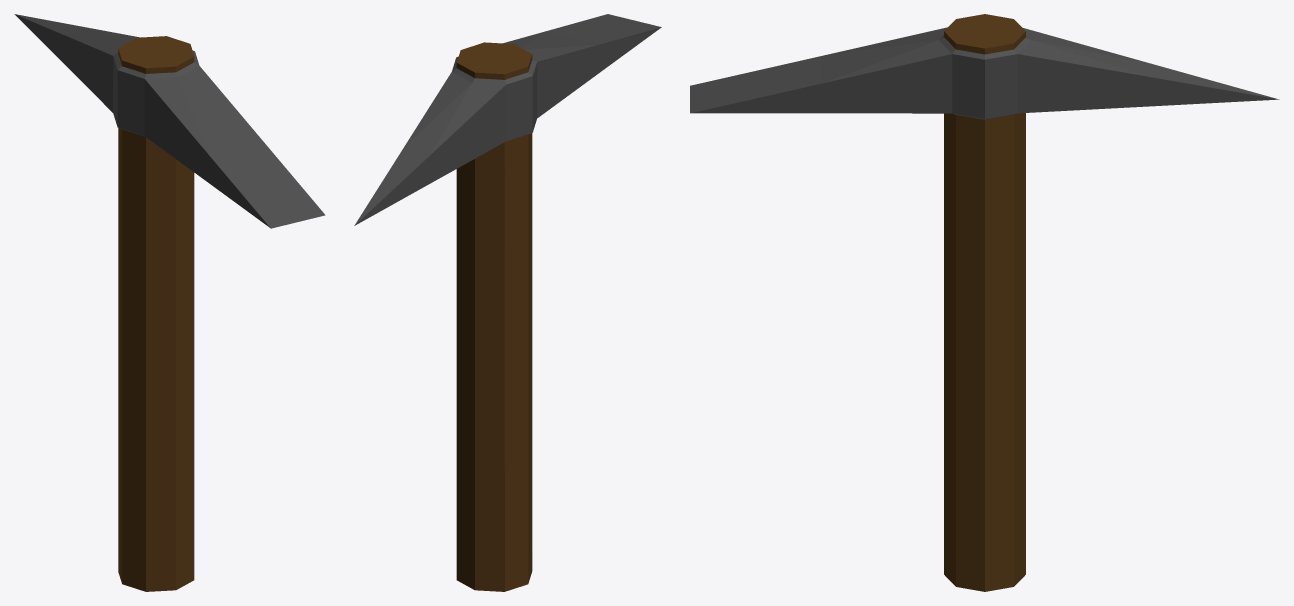
Rendered from pickaxe.dae.
3 views of the same model, side by side, from view 1: azimuth 30°, elevation 25°; view 2: azimuth 150°, elevation 25°; view 3: azimuth 270°, elevation 25° (orthographic). The views are drawn at different scales.
Visible parts, largest first — view 1: Cube; view 2: Cube; view 3: Cube.
Boxes of the visible parts, x1,y1,x2,y2 form: Cube: [14, 14, 325, 591]; Cube: [354, 14, 661, 591]; Cube: [690, 14, 1279, 591].
Size of the model in its own units: 0.2832 by 1.8 by 1.83.
Materials: 1 (1 with a texture image).
